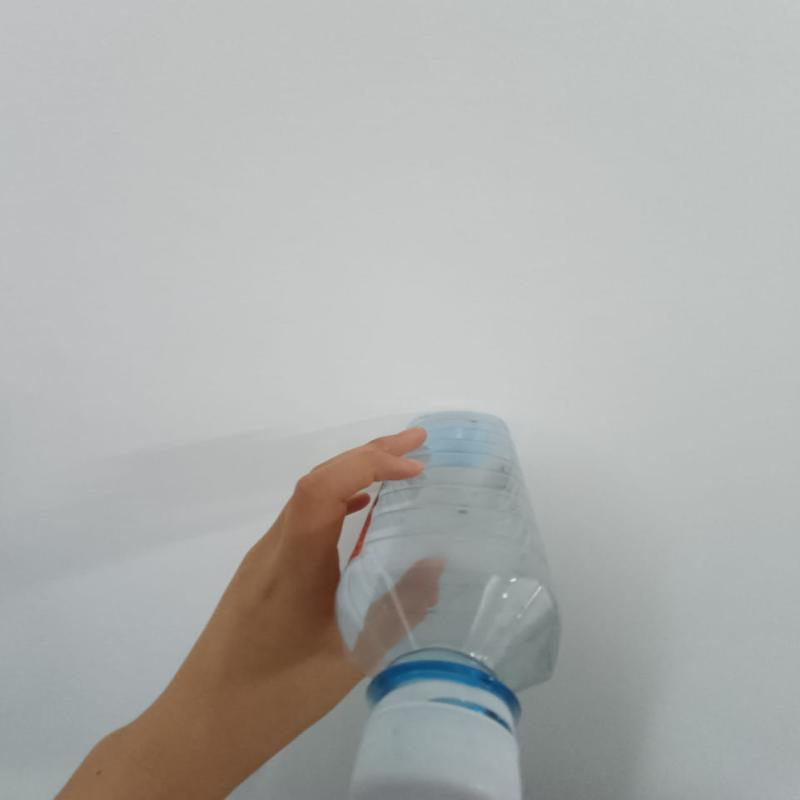botella: (340, 411, 568, 800)
